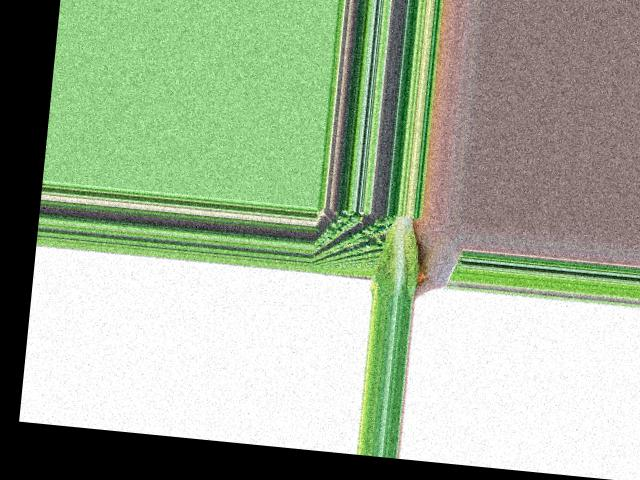lettuce: (371, 212, 423, 298)
